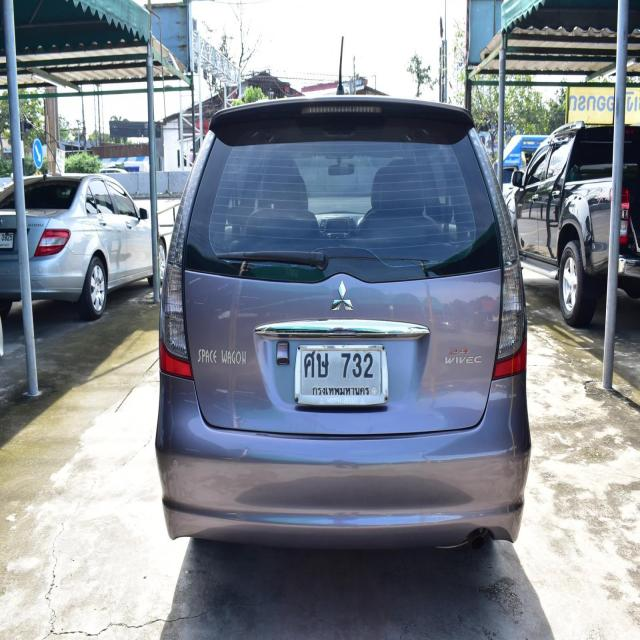license_plate: (291, 343, 393, 414)
